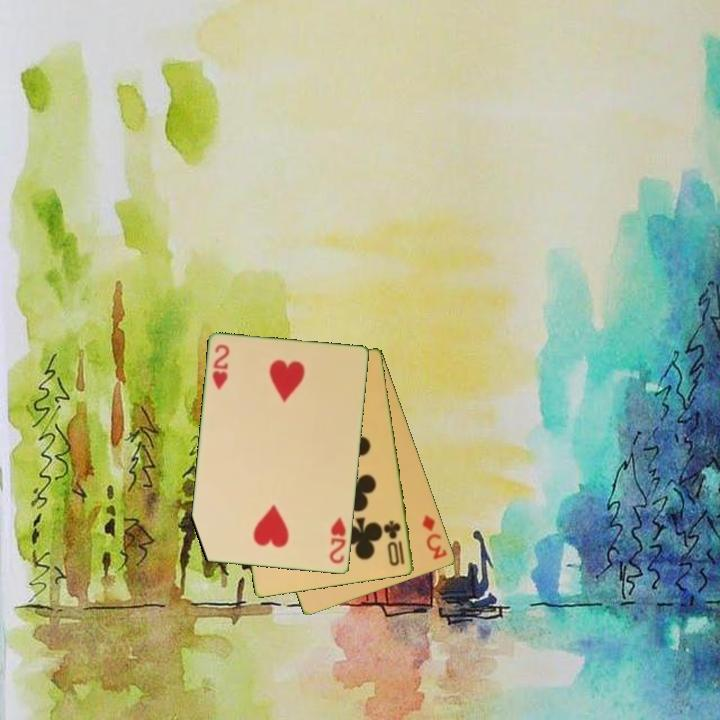10c: (381, 517, 408, 569)
2h: (209, 341, 233, 393), (326, 514, 349, 567)
3d: (419, 512, 451, 563)
